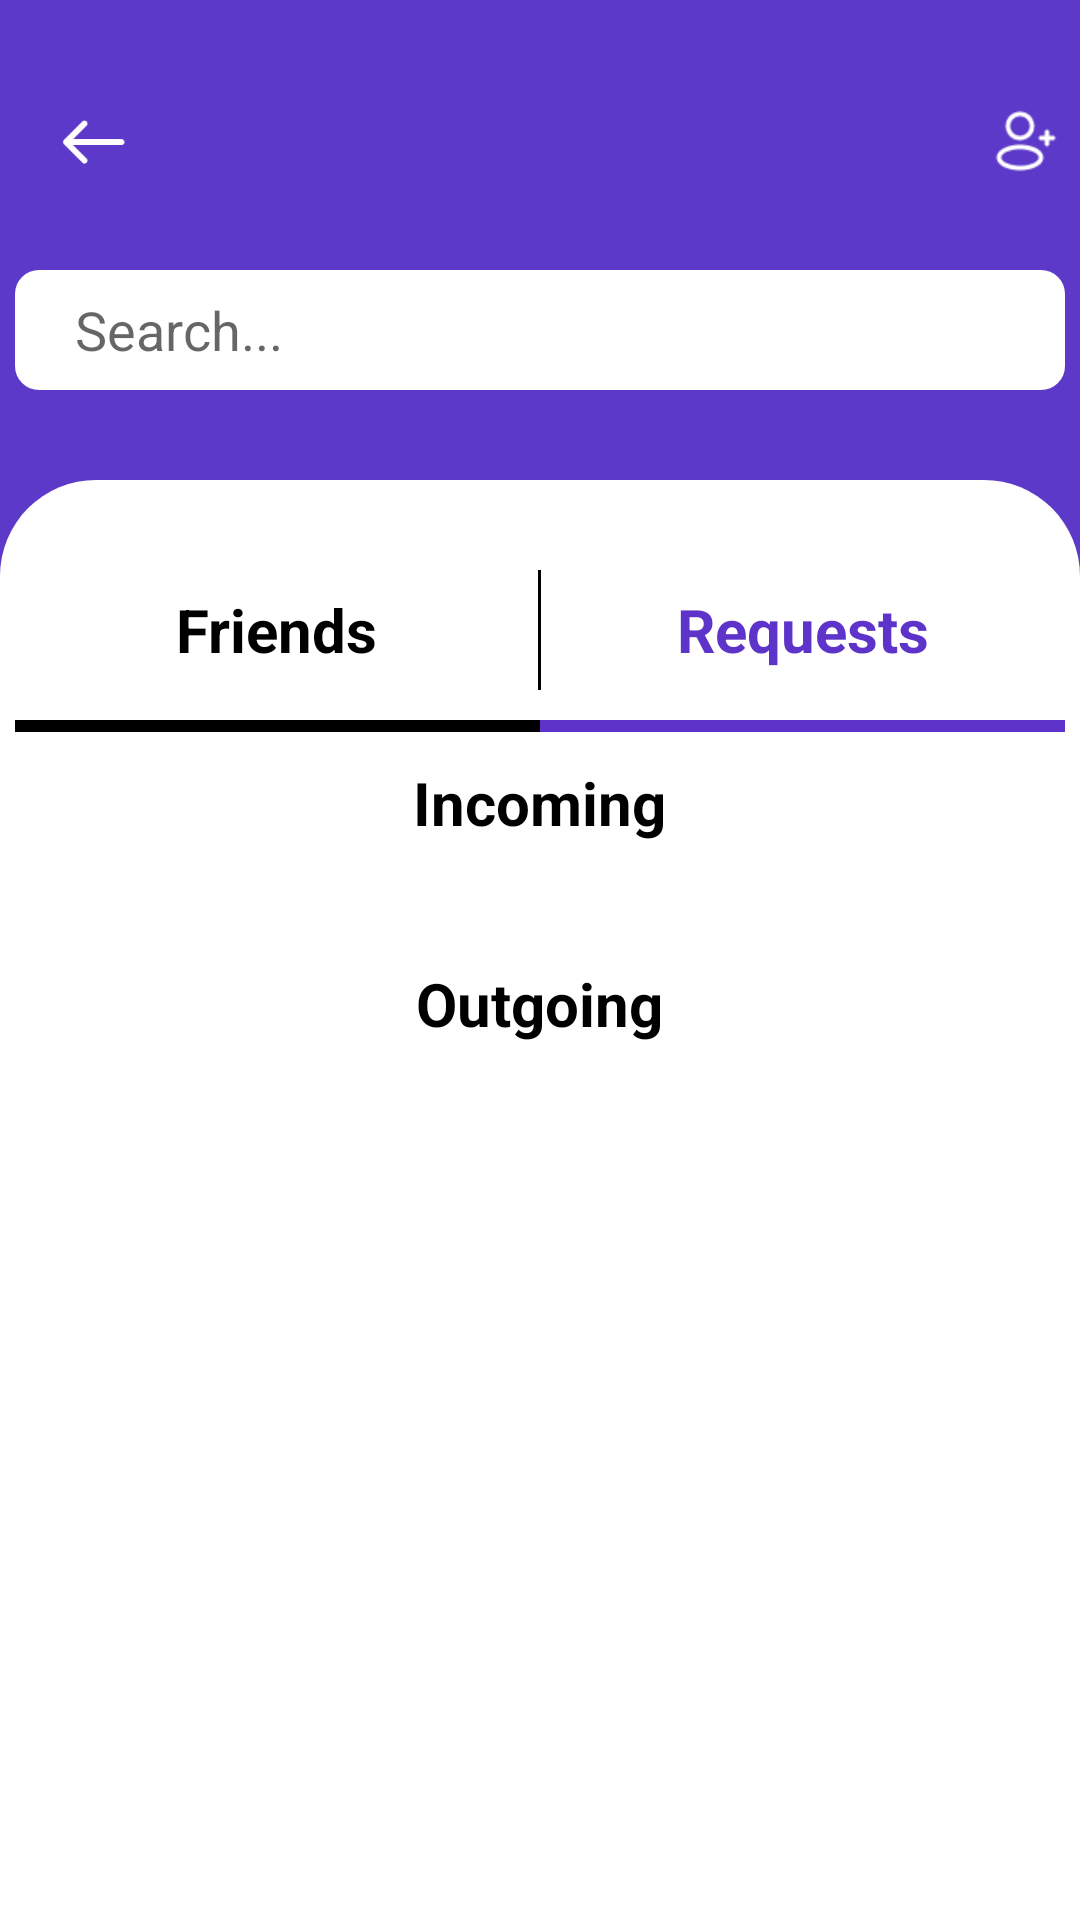

Where icons sit on this 1080px×1920px app screen, as box=[x1, y1, x2, y2]:
back arrow: box=[63, 120, 125, 164]
